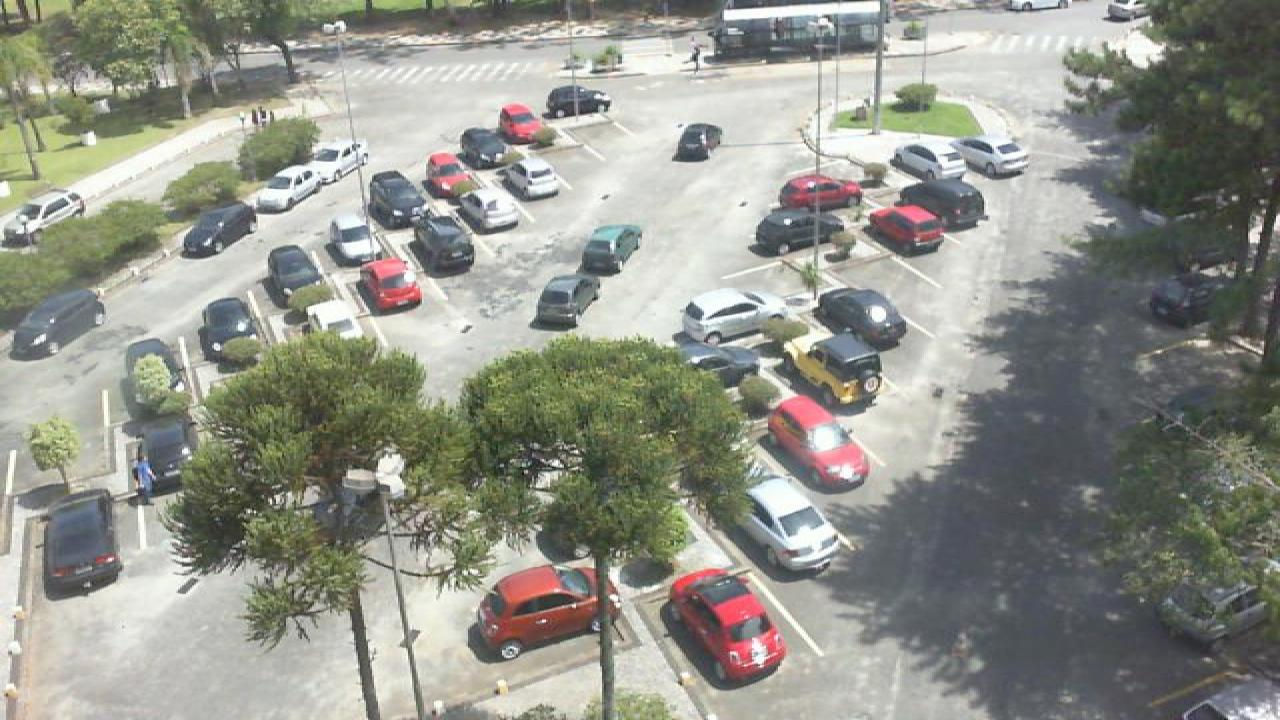Car: (472, 562, 630, 662), (664, 567, 790, 689), (724, 474, 840, 572), (760, 395, 872, 493), (1156, 576, 1280, 654), (34, 490, 124, 596), (780, 333, 886, 414), (674, 286, 790, 346), (10, 287, 106, 359), (810, 286, 908, 352), (122, 413, 196, 495), (120, 337, 188, 413), (0, 189, 88, 246), (754, 208, 856, 257), (198, 297, 266, 368), (180, 200, 258, 259), (896, 179, 986, 229), (408, 214, 476, 274), (864, 204, 944, 254), (530, 274, 600, 328), (678, 341, 758, 387), (254, 163, 328, 212), (264, 244, 324, 304), (358, 258, 422, 314), (366, 169, 428, 226), (946, 137, 1030, 178), (454, 182, 520, 232), (776, 174, 866, 210), (326, 210, 382, 266), (580, 224, 642, 274), (302, 300, 366, 346), (422, 151, 482, 199), (302, 140, 370, 182), (892, 142, 966, 179), (502, 155, 560, 198), (496, 102, 554, 144), (458, 124, 510, 168), (542, 86, 612, 118), (672, 121, 724, 161)
